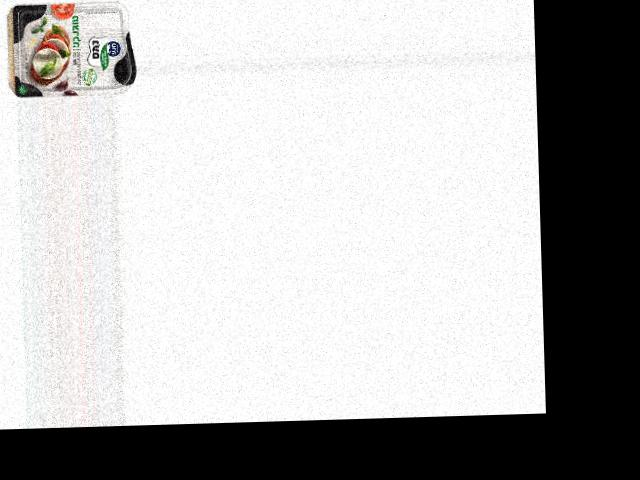cheese: (11, 0, 134, 97)
